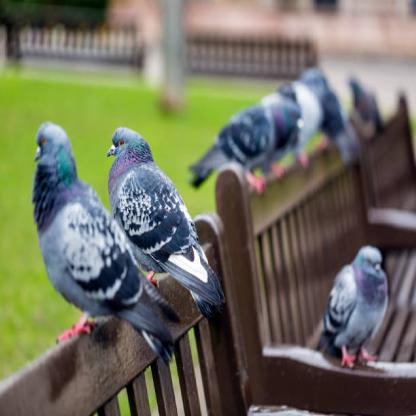Rock Pigeon: (33, 128, 226, 322), (195, 63, 347, 192), (331, 242, 388, 369)
